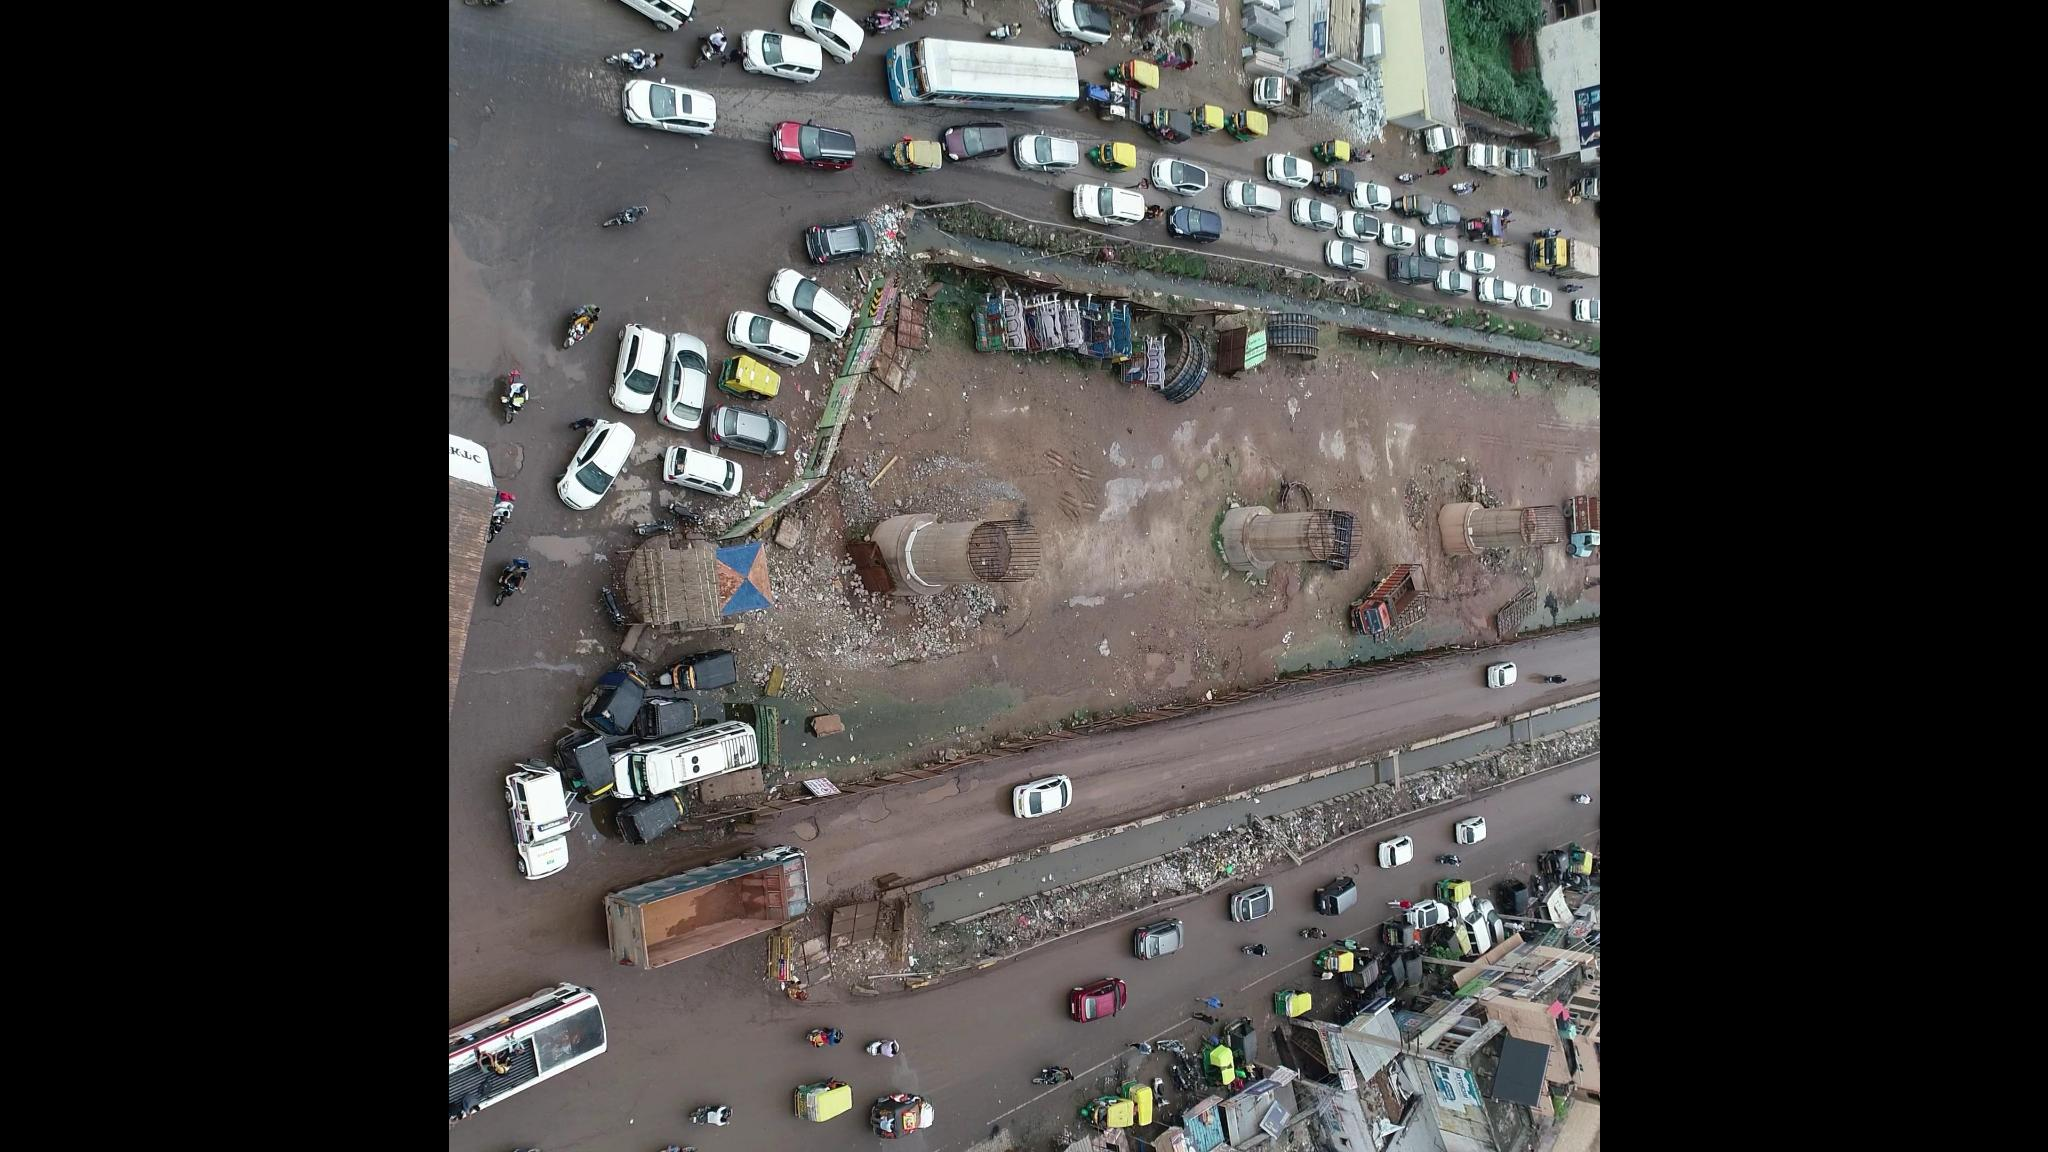Potholes: (1333, 843, 1367, 890)
